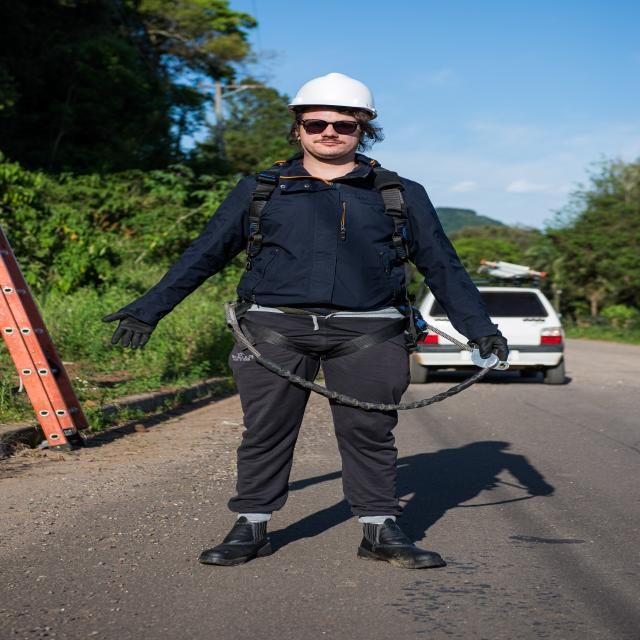botas: (350, 514, 450, 570), (198, 514, 278, 570)
capacete: (288, 72, 378, 120)
corda de vida: (222, 156, 430, 368)
luva: (100, 304, 164, 353), (470, 327, 514, 367)
